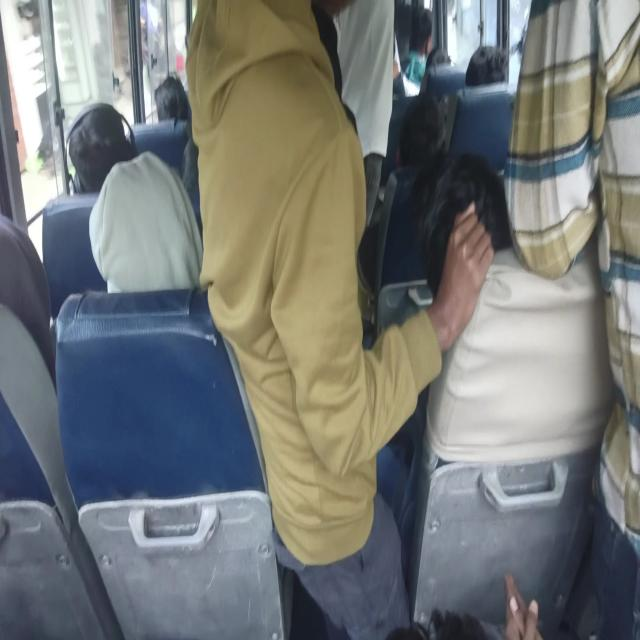person: (192, 8, 408, 533), (511, 2, 640, 447), (96, 176, 201, 300), (425, 170, 511, 292), (321, 0, 393, 120), (0, 216, 67, 337), (76, 108, 118, 162), (473, 31, 512, 86), (398, 102, 442, 138), (152, 80, 193, 118), (404, 12, 440, 53), (430, 41, 449, 72)
